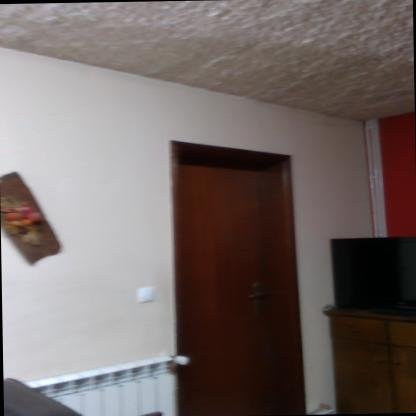closed: (156, 124, 304, 404)
